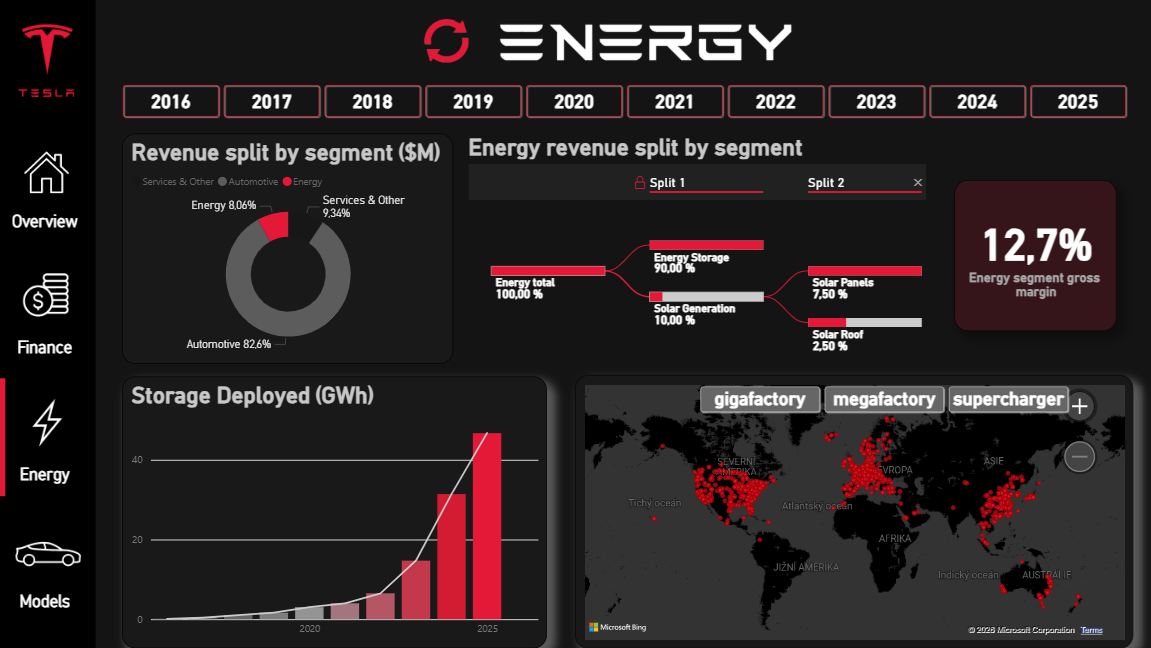

The dashboard page shown, as its layout file describes it:
{"tool":"powerbi","page":{"name":"Energy","canvas":[1280,720],"ordinal":2},"visuals":[{"type":"donutChart","title":"Revenue split by segment ($M) ","fields":{"Y":["Sum(energy revenue split.Services & Other ($M))","Sum(energy revenue split.Automotive revenue ($M))","Sum(energy revenue split.Energy Generation ($M))"]},"box":[136,148,368,256],"z":0},{"type":"image","box":[458,14.9,78.2,60.3],"z":500,"group":"g3"},{"type":"shape","box":[0,0,107.5,720],"z":1000,"group":"g4"},{"type":"actionButton","box":[458,14,80,61.2],"z":1000,"group":"g3"},{"type":"lineClusteredColumnComboChart","title":"Storage Deployed (GWh)","fields":{"Category":["storage deployed.Year.Variation.Date Hierarchy.Year"],"Y":["Sum(storage deployed.Storage Deployed (GWh))"],"Y2":["Avg(storage deployed.Storage Deployed (GWh))"]},"box":[136,418,472,302],"z":1000},{"type":"map","fields":{"Category":["map data.location"],"Series":["map data.type "]},"box":[640,416,620,304],"z":1500,"group":"g1"},{"type":"group","id":"g1","title":"Group 1","box":[640,416,620,304],"z":2000},{"type":"group","id":"g2","title":"Group 2","box":[0,146,107,533.3],"z":2001,"group":"g4"},{"type":"advancedSlicerVisual","fields":{"Values":["energy revenue split.Year"]},"box":[135.7,91,1124.3,41],"z":3000},{"type":"image","box":[4,146,98,89],"z":3000,"group":"g2"},{"type":"decompositionTreeVisual","title":"Energy revenue split by segment","fields":{"Analyze":["Sum(tree.percentages)"],"ExplainBy":["tree.lvl 1 ","tree.lvl 2 ","tree.parent "]},"box":[516,148,518,264],"z":4000},{"type":"image","box":[1.7,271.3,101.7,111.7],"z":4000,"group":"g2"},{"type":"advancedSlicerVisual","fields":{"Values":["map data.type "]},"box":[776.9,426,414.6,34.9],"z":4001,"group":"g1"},{"type":"card","fields":{"Values":["Avg(energy revenue split.energy gross margin %)"]},"box":[1062,200,180,168],"z":5000},{"type":"image","box":[0,398,107,142],"z":5000,"group":"g2"},{"type":"image","box":[516,18,402,58],"z":6000},{"type":"image","box":[1.3,549.3,104.7,130],"z":6000,"group":"g2"},{"type":"image","box":[0,0,106.7,136.7],"z":7000,"group":"g4"},{"type":"group","id":"g3","title":"Group 3","box":[458,14,80,62],"z":7000},{"type":"group","id":"g4","title":"Group 1","box":[0,0,107.5,720],"z":8000},{"type":"actionButton","box":[2.2,137.8,100,125.6],"z":8000,"group":"g4"},{"type":"actionButton","box":[0,273.3,106.7,136.7],"z":9000,"group":"g4"},{"type":"actionButton","box":[0,410,107.1,131.4],"z":10000,"group":"g4"},{"type":"actionButton","box":[0,553.3,106.7,140],"z":11000,"group":"g4"},{"type":"pageNavigator","box":[0,137.5,102.5,555],"z":12000,"group":"g4"}]}

Visuals, with their boxes on the page's 1280x720 design canvas (x1, y1, x2, y2). These are canvas units, not pixel positions in the 1151x648 screenshot, which may show the page scaled, cropped or inside an application window:
"Revenue split by segment ($M) " donutChart: <region>136, 148, 504, 404</region>
image: <region>458, 15, 536, 75</region>
shape: <region>0, 0, 108, 720</region>
actionButton: <region>458, 14, 538, 75</region>
"Storage Deployed (GWh)" lineClusteredColumnComboChart: <region>136, 418, 608, 720</region>
map - map data.location x map data.type : <region>640, 416, 1260, 720</region>
"Group 1" group: <region>640, 416, 1260, 720</region>
"Group 2" group: <region>0, 146, 107, 679</region>
advancedSlicerVisual - energy revenue split.Year: <region>136, 91, 1260, 132</region>
image: <region>4, 146, 102, 235</region>
"Energy revenue split by segment" decompositionTreeVisual: <region>516, 148, 1034, 412</region>
image: <region>2, 271, 103, 383</region>
advancedSlicerVisual - map data.type : <region>777, 426, 1192, 461</region>
card - Avg(energy revenue split.energy gross margin %): <region>1062, 200, 1242, 368</region>
image: <region>0, 398, 107, 540</region>
image: <region>516, 18, 918, 76</region>
image: <region>1, 549, 106, 679</region>
image: <region>0, 0, 107, 137</region>
"Group 3" group: <region>458, 14, 538, 76</region>
"Group 1" group: <region>0, 0, 108, 720</region>
actionButton: <region>2, 138, 102, 263</region>
actionButton: <region>0, 273, 107, 410</region>
actionButton: <region>0, 410, 107, 541</region>
actionButton: <region>0, 553, 107, 693</region>
pageNavigator: <region>0, 138, 102, 692</region>
